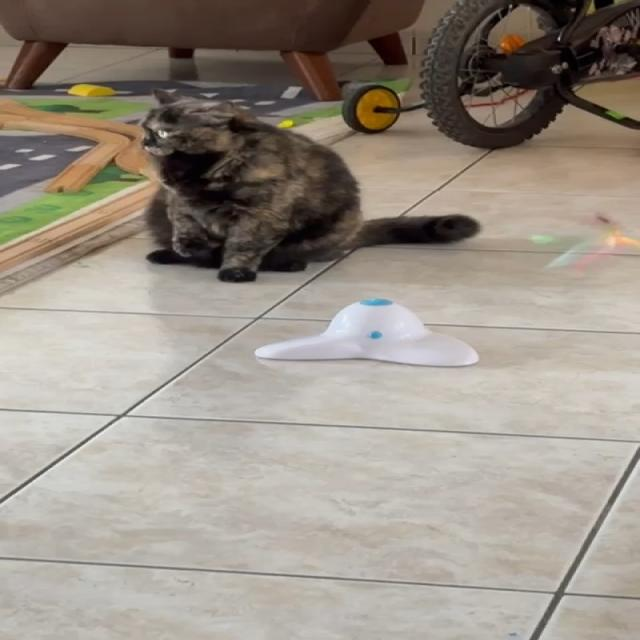authorized: (138, 87, 482, 282)
